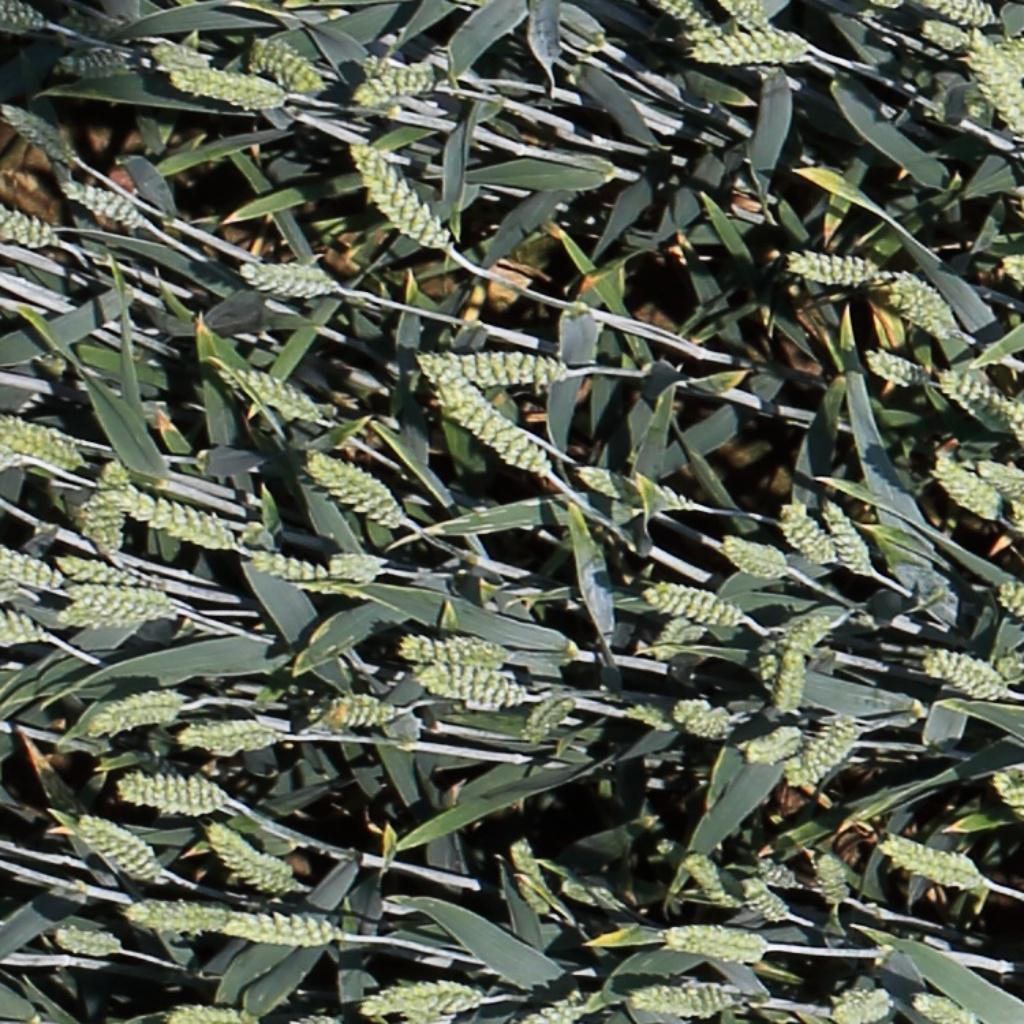0-0: (344, 135, 447, 249), (430, 380, 551, 476), (935, 367, 1024, 465), (117, 885, 236, 952), (305, 457, 402, 527), (113, 492, 233, 548), (962, 27, 1024, 132), (76, 817, 171, 884), (423, 350, 579, 390), (916, 646, 1018, 707), (218, 905, 342, 951), (683, 32, 822, 72), (203, 830, 293, 889), (74, 689, 192, 734), (787, 715, 858, 789), (114, 770, 230, 815), (166, 69, 286, 112), (352, 979, 491, 1016), (358, 55, 456, 107), (752, 615, 830, 680), (817, 492, 873, 578), (415, 664, 526, 707), (931, 453, 1002, 520), (416, 352, 491, 415), (55, 593, 167, 635), (233, 365, 318, 420), (0, 416, 85, 471), (630, 977, 751, 1015), (247, 554, 358, 595), (577, 466, 682, 509), (783, 252, 893, 292), (2, 99, 72, 161), (882, 842, 978, 887), (505, 835, 555, 921), (245, 36, 320, 92), (663, 921, 770, 960), (775, 501, 838, 567), (892, 273, 958, 335), (641, 585, 741, 625), (165, 720, 289, 752), (58, 178, 140, 225), (51, 557, 158, 593), (238, 262, 339, 300), (396, 634, 509, 667), (88, 458, 124, 559), (678, 850, 735, 912), (355, 48, 404, 117), (517, 693, 573, 750), (720, 536, 791, 578), (0, 543, 62, 589), (991, 778, 1024, 857), (326, 692, 399, 726), (738, 877, 790, 924), (658, 0, 719, 40), (835, 983, 896, 1022), (774, 643, 804, 722), (0, 202, 57, 243), (812, 849, 849, 912), (862, 350, 928, 385), (674, 698, 730, 737), (622, 697, 684, 732), (1004, 495, 1024, 600), (741, 734, 801, 764), (912, 993, 970, 1024), (976, 461, 1024, 498), (0, 602, 36, 651), (750, 856, 798, 891), (998, 582, 1024, 645), (50, 931, 120, 953), (529, 993, 582, 1022), (929, 0, 995, 23), (918, 19, 969, 47), (726, 0, 770, 32), (1002, 401, 1024, 465), (0, 1, 47, 30), (151, 45, 207, 69), (166, 1010, 253, 1024), (51, 57, 126, 72), (1003, 258, 1024, 303)
